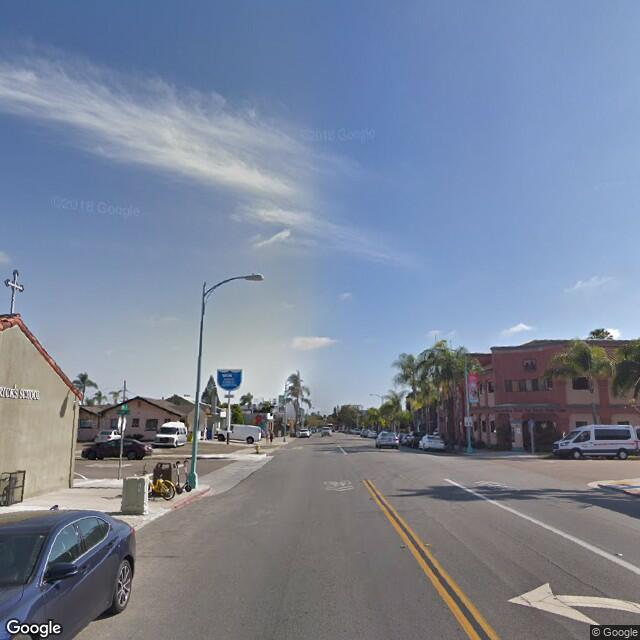light: (244, 271, 265, 280)
road line: (392, 532, 473, 606), (354, 475, 397, 523)
